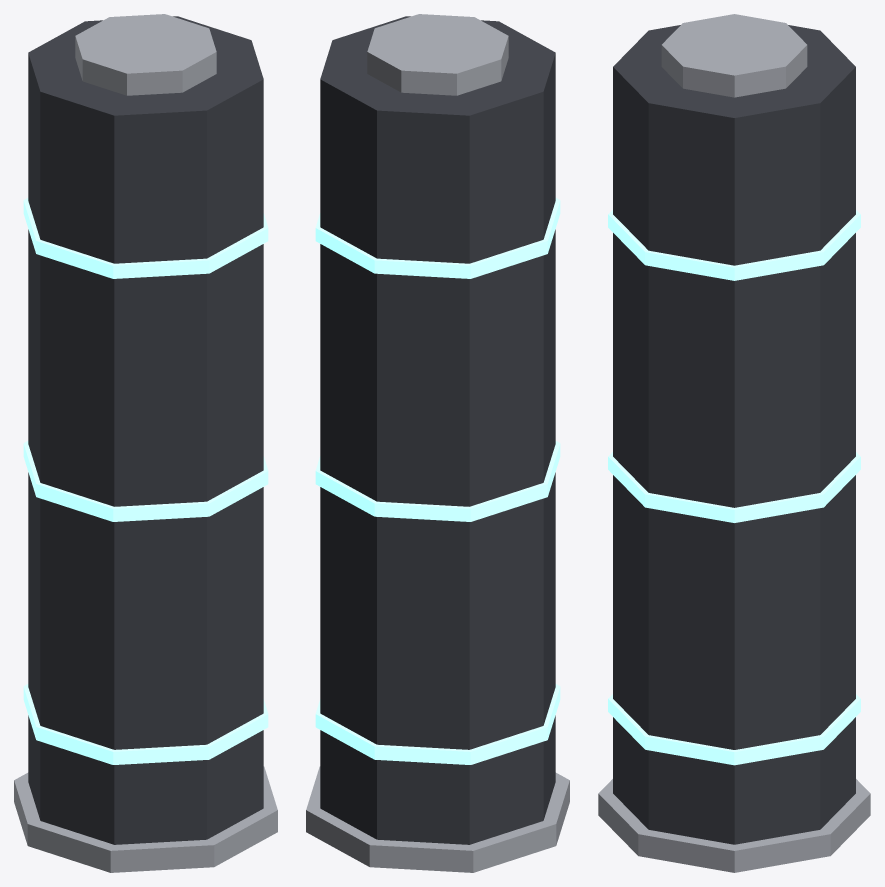
The model's file is SM_SciFiTower.fbx.
The picture shows the model from 3 angles, left to right: view 1: azimuth 30°, elevation 25°; view 2: azimuth 150°, elevation 25°; view 3: azimuth 270°, elevation 25°; orthographic projection.
Parts seen in each view (by area): view 1: SM_SciFiTower; view 2: SM_SciFiTower; view 3: SM_SciFiTower.
Part boxes in pixels (x1=…): SM_SciFiTower: x1=14, y1=14, x2=277, y2=872; SM_SciFiTower: x1=306, y1=14, x2=569, y2=872; SM_SciFiTower: x1=598, y1=14, x2=870, y2=872.
Bounding box in the file's own units: 112 × 350 × 112.
